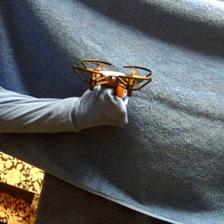drone: (76, 58, 156, 101)
